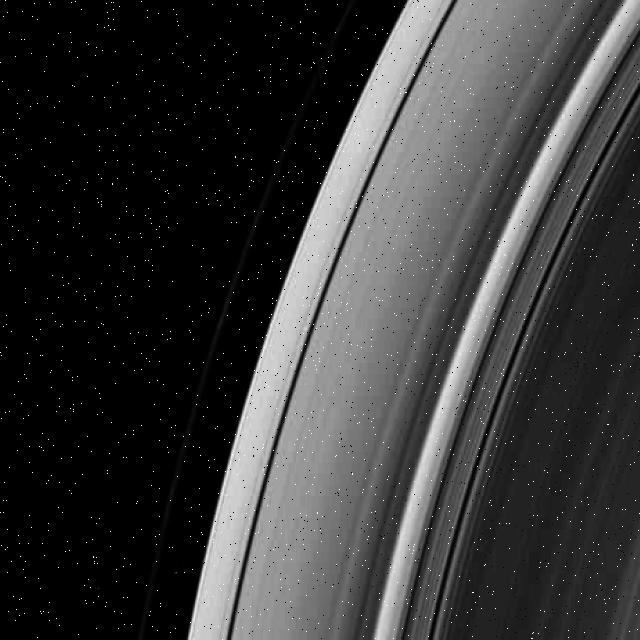Saturn: (128, 0, 640, 640)
